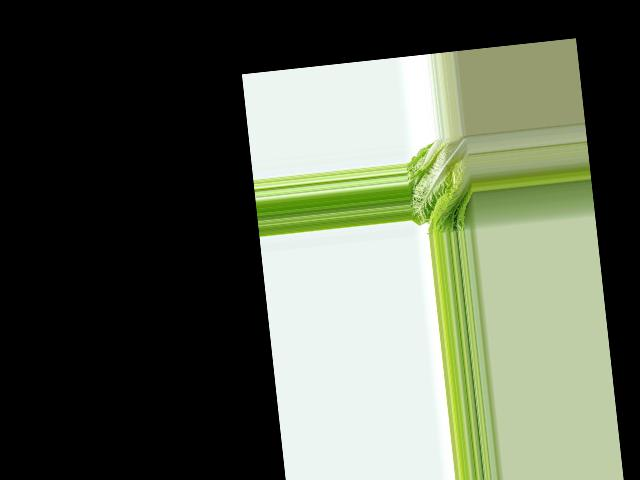lettuce: (404, 135, 476, 237)
